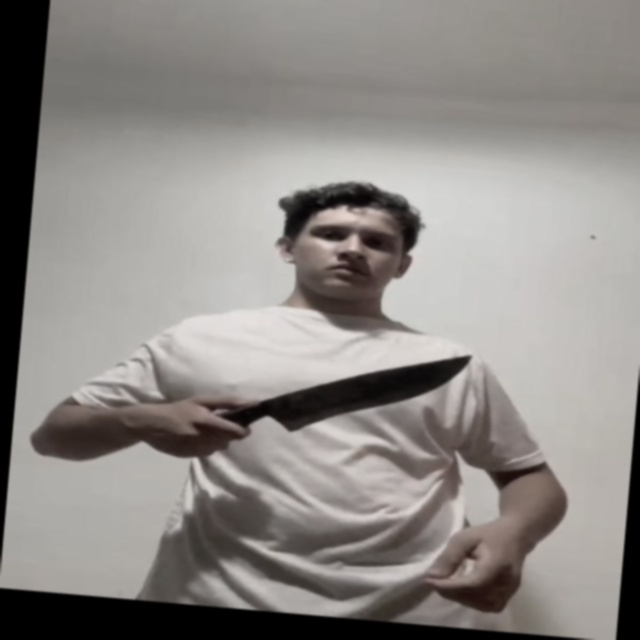Sharp-Object: (258, 334, 474, 445)
